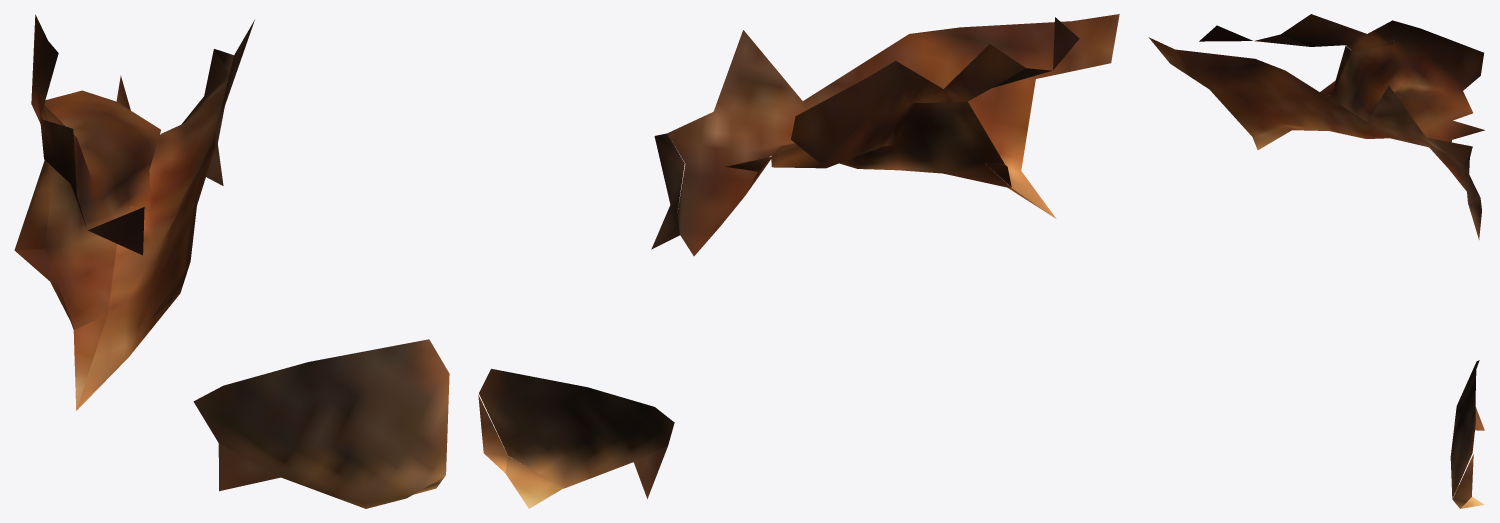
File: Triceratops_Jugal_R.fbx
3 views of the same model, side by side, from view 1: azimuth 30°, elevation 25°; view 2: azimuth 150°, elevation 25°; view 3: azimuth 270°, elevation 25° (orthographic). The views are drawn at different scales.
Parts seen in each view (by area): view 1: Triceratops_Jugal_R; view 2: Triceratops_Jugal_R; view 3: Triceratops_Jugal_R.
Boxes of the visible parts, x1,y1,x2,y2 form: Triceratops_Jugal_R: (14, 14, 449, 508); Triceratops_Jugal_R: (478, 14, 1119, 508); Triceratops_Jugal_R: (1148, 14, 1484, 508).
Bounding box in the file's own units: 0.056 × 0.0584 × 0.0484.
Materials: 1 (1 with a texture image).
